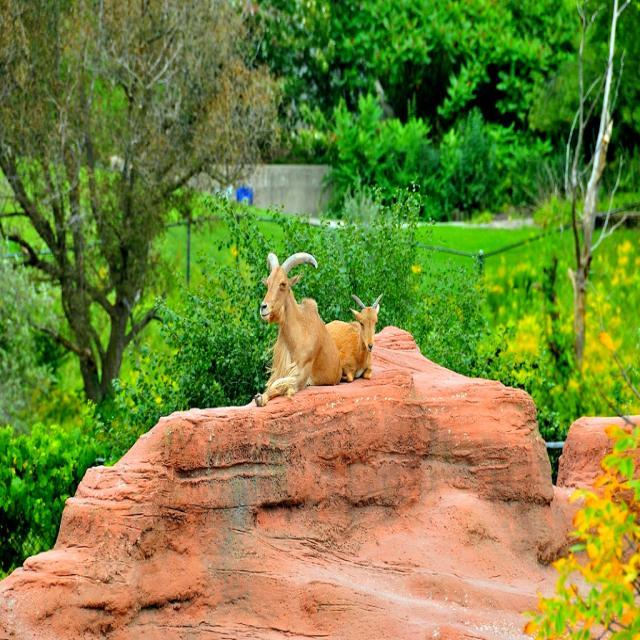Goat: (254, 251, 344, 407), (326, 291, 385, 382)
